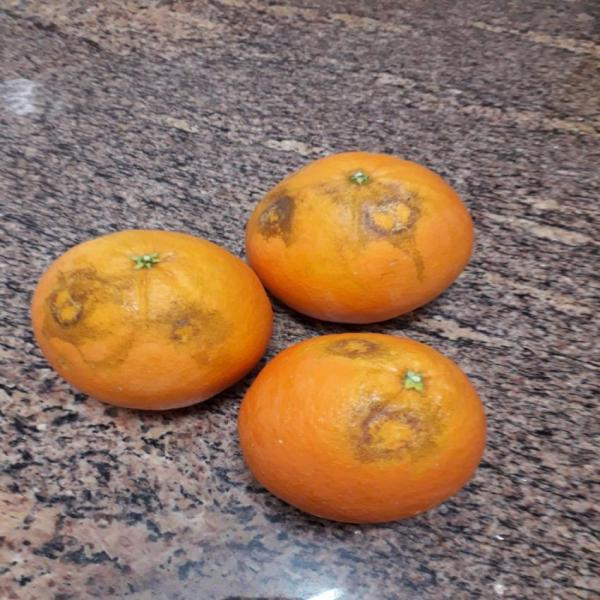Trips: (228, 330, 496, 539), (27, 221, 280, 427), (240, 150, 490, 338)
